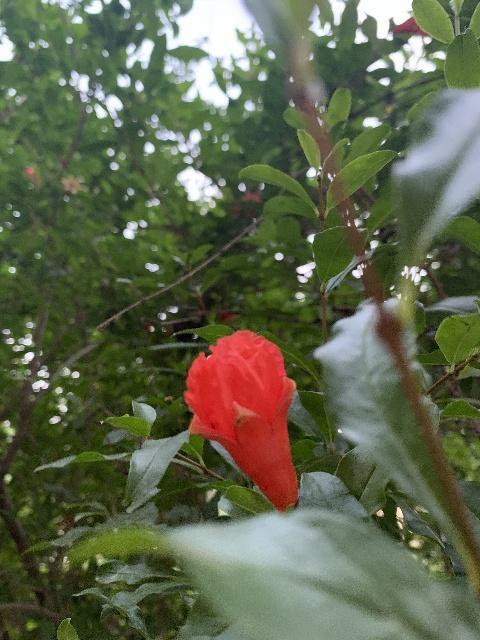flower: (182, 329, 299, 512)
